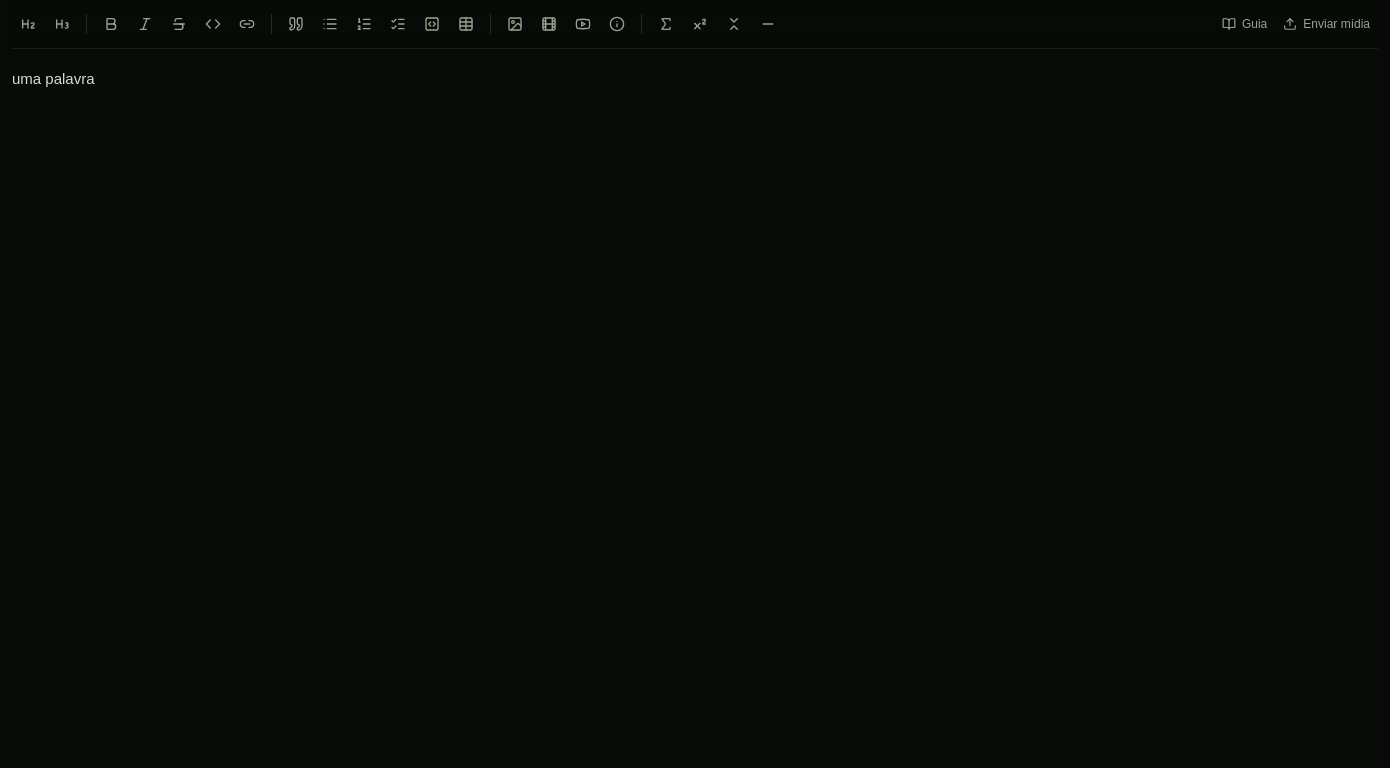
Scenario: barra de formatação e atalhos › negrito envolve a seleção; sem seleção, insere um exemplo já selecionado
Later steps or results of the test are not shown.
Click the button named "Negrito".
click(111, 24)  # box [95,8,127,40]
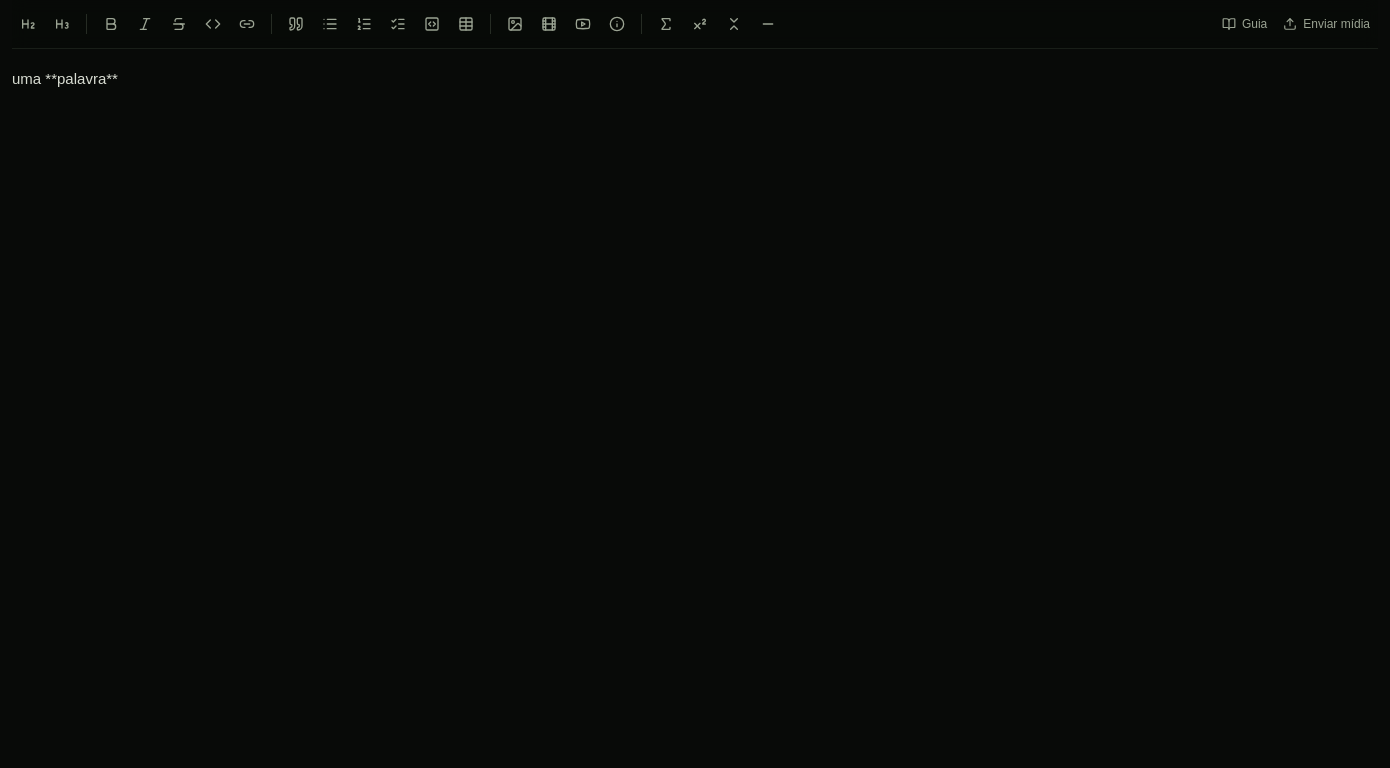
Expected: the text box named "Conteúdo do post em Markdown" holds "uma **palavra**", [12,65,1378,526]
